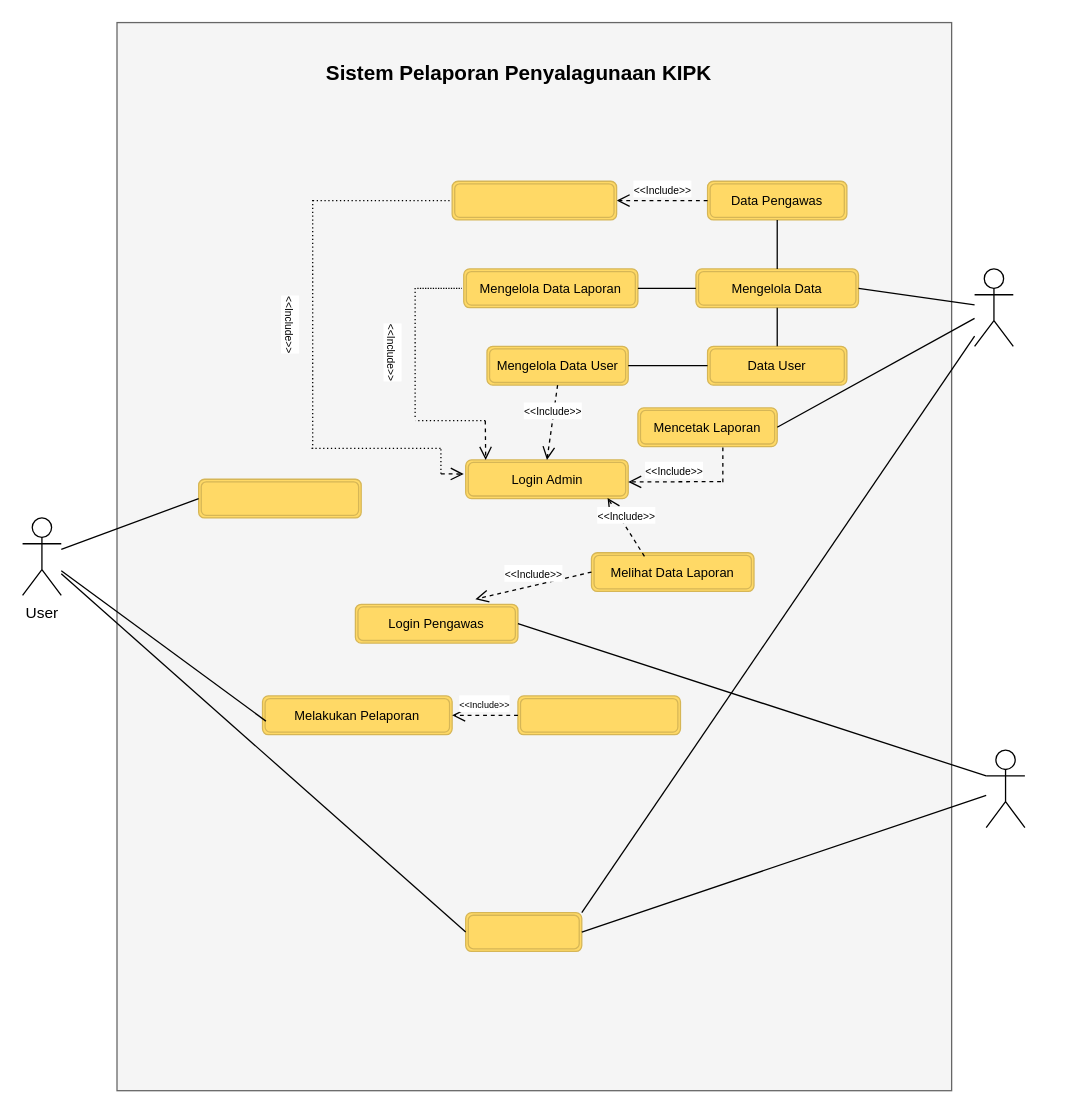
The diagram is 1084 pixels wide and 1113 high, and some of its shapes have lost their labels. The box of each missing label's shape, as (x1, y1, x2, y2) in pixels:
Admin: (973, 268, 1013, 346)
Login User: (197, 478, 361, 518)
Logout: (464, 911, 582, 951)
Melihat Riwayat Laporan: (517, 695, 680, 735)
Mengelola Data Pengawas: (451, 180, 617, 220)
Pengawas KIPK: (985, 749, 1025, 828)
